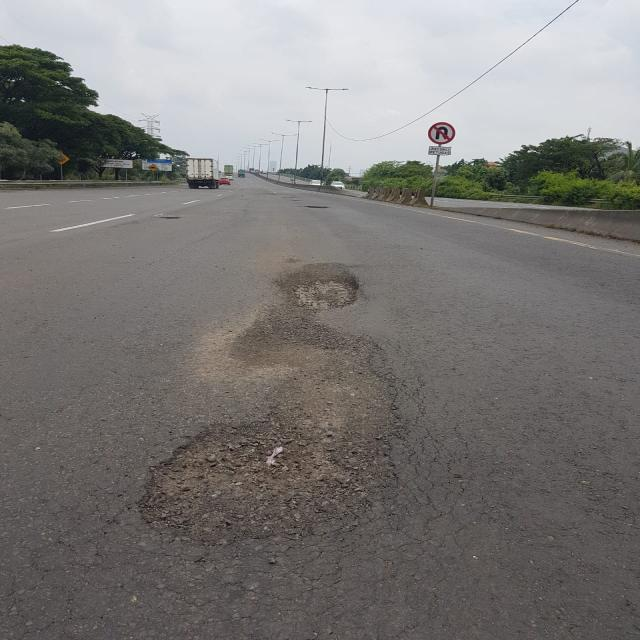Buraco: (132, 260, 410, 552), (157, 214, 183, 222), (302, 204, 331, 211)
